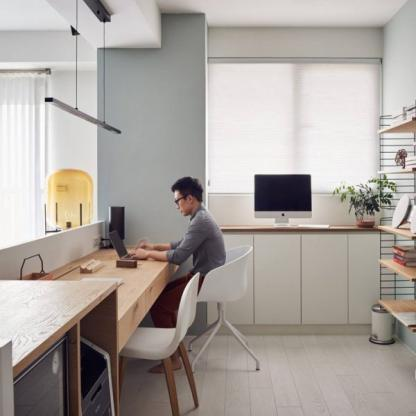chair: (118, 267, 207, 416), (194, 238, 262, 378)
light: (47, 0, 131, 144)
table: (1, 233, 189, 357), (0, 277, 119, 416)
